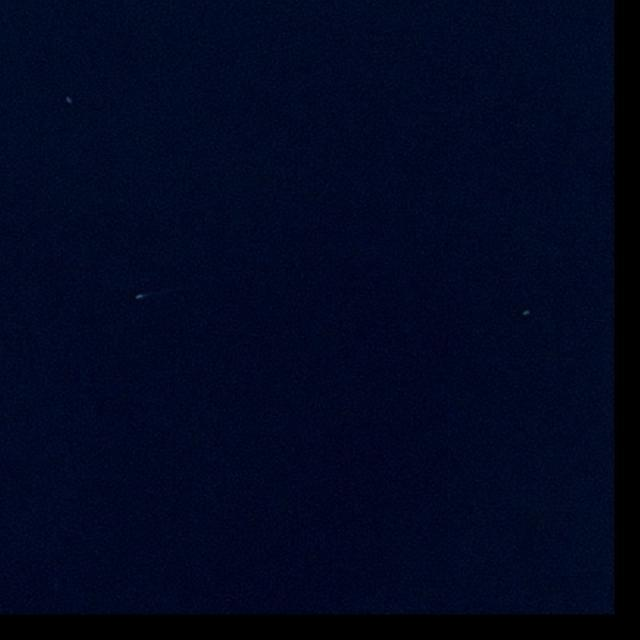ship: (135, 295, 142, 300), (66, 98, 71, 104)
